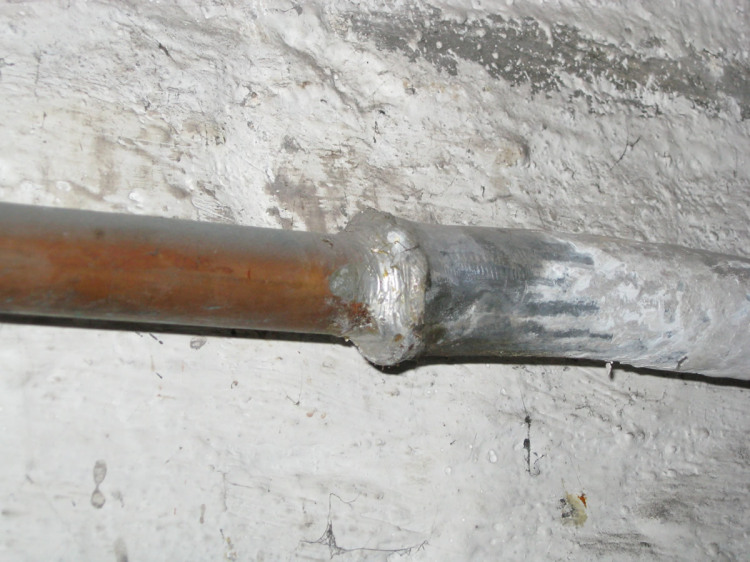Low: (4, 224, 375, 335)
